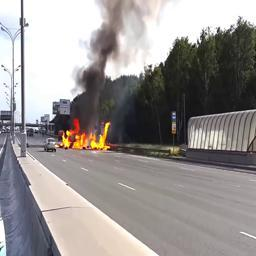fire: (61, 119, 110, 151)
